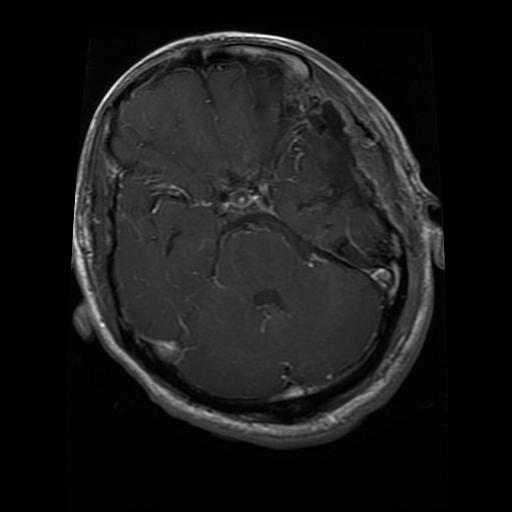Gliomia_tumour: (266, 98, 400, 266)
